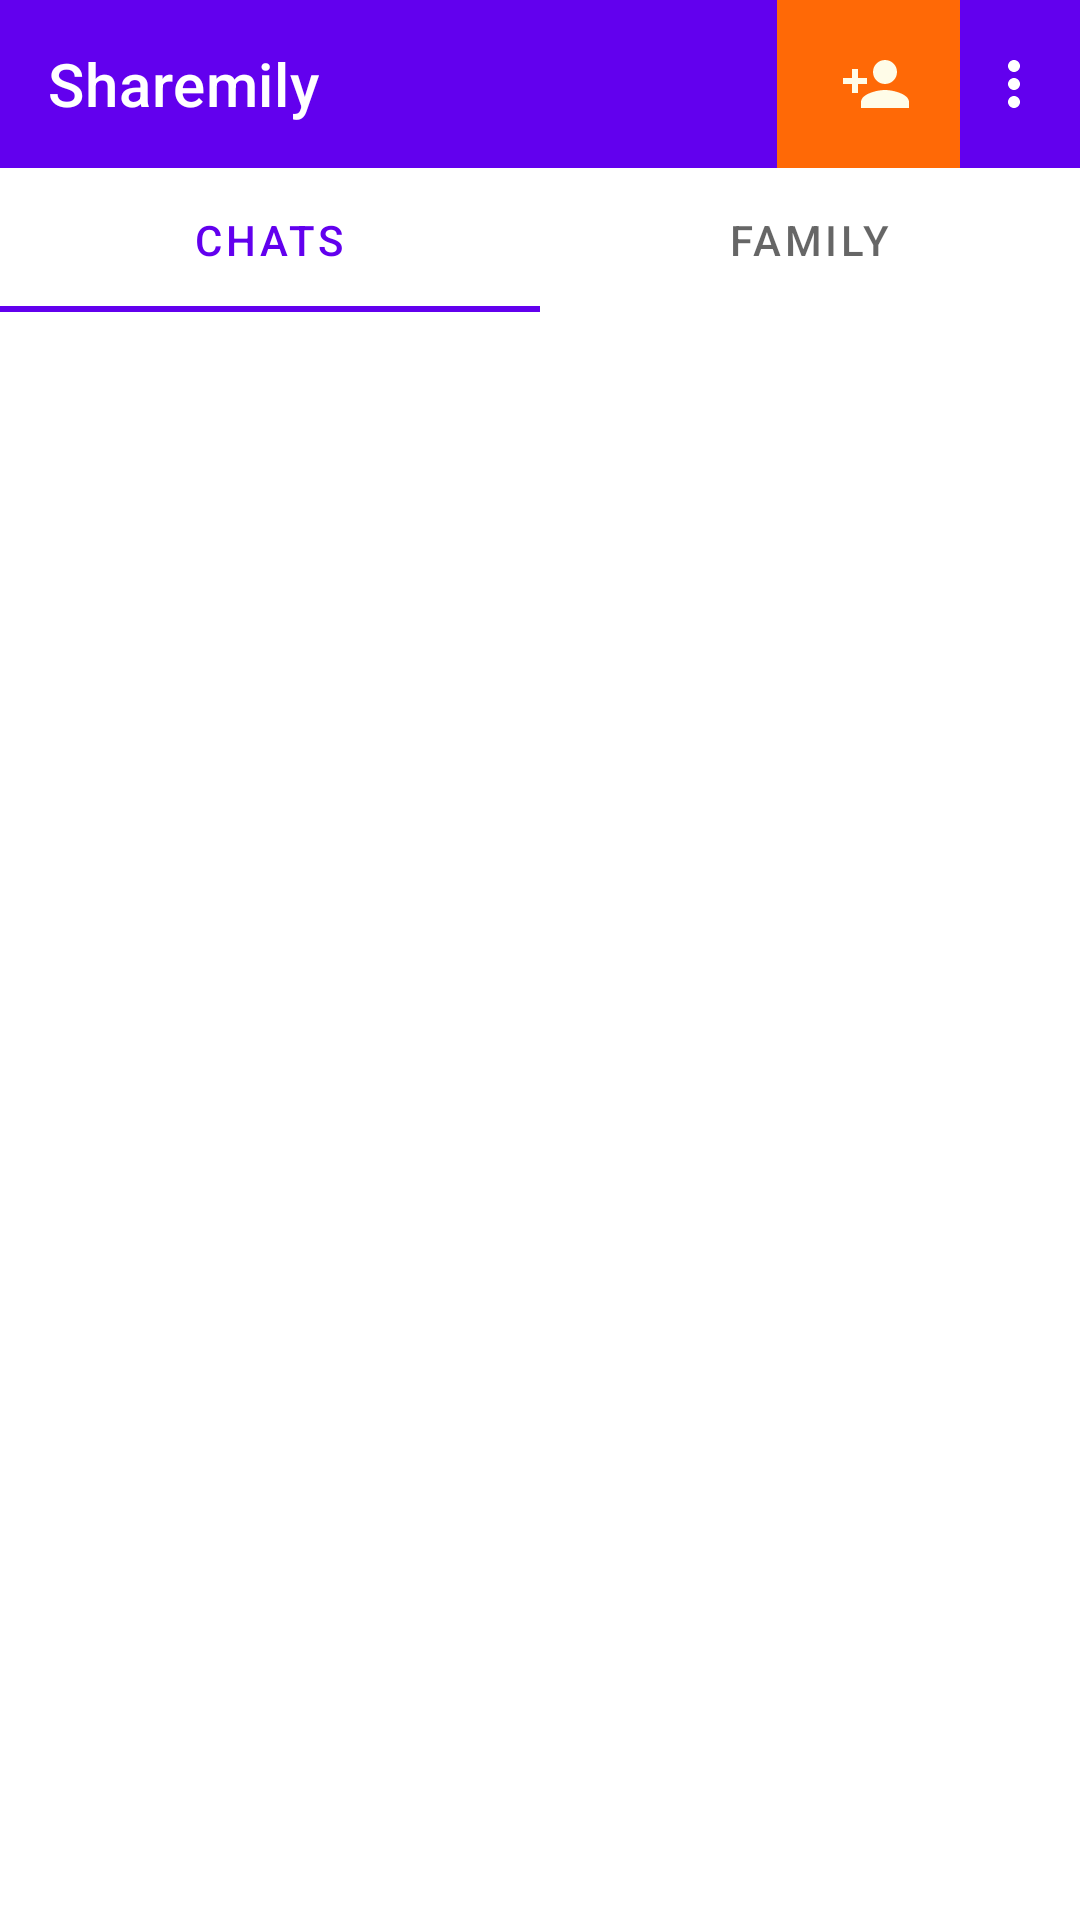

Named icons in this screenshot (1080x1920) and their centers, (x=x, y=y):
add person: (x=876, y=84)
